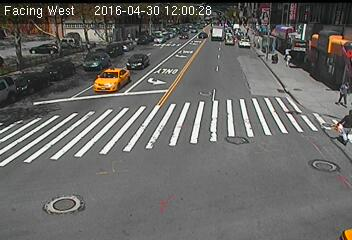neg: (29, 88, 60, 129), (223, 98, 253, 139), (96, 72, 123, 107), (54, 186, 78, 218), (139, 149, 162, 180), (77, 145, 100, 176), (156, 60, 179, 90), (312, 153, 333, 181), (191, 142, 212, 169), (206, 57, 226, 84), (179, 29, 193, 46), (62, 47, 75, 65), (271, 53, 279, 64)
pos: (329, 78, 347, 103), (285, 54, 294, 66)
